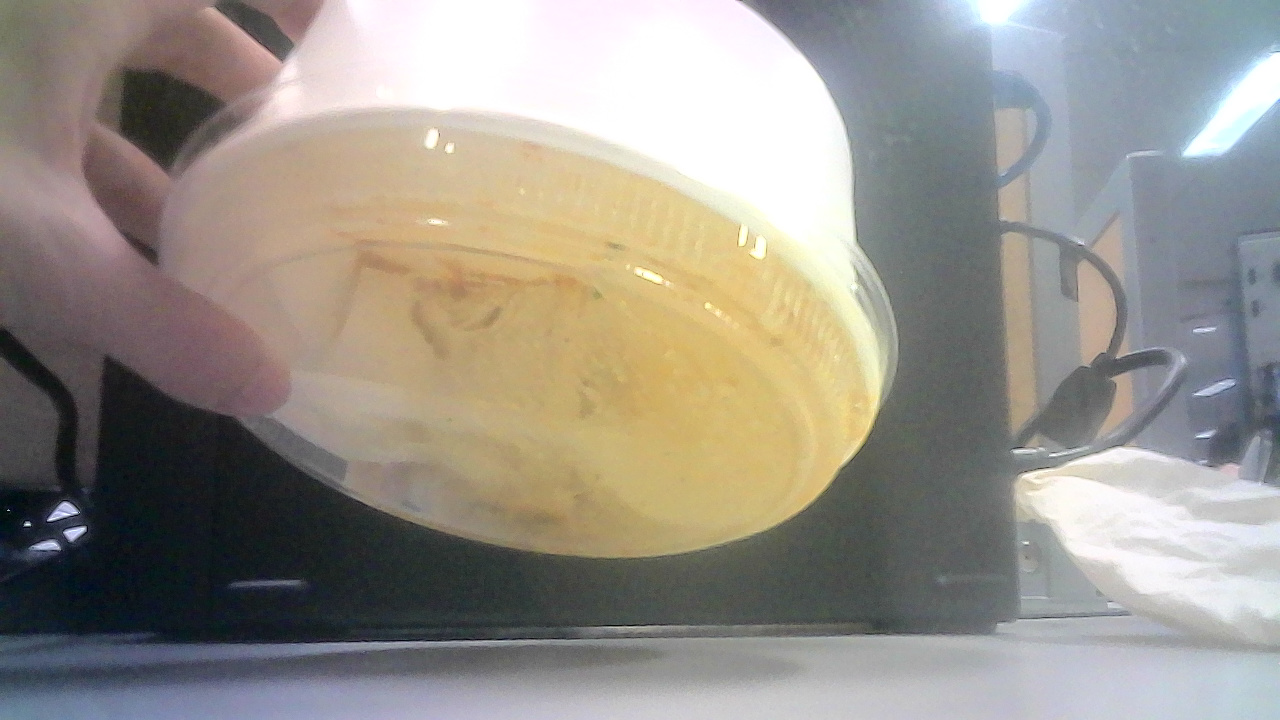Undefined_Waste: (144, 4, 898, 585)
